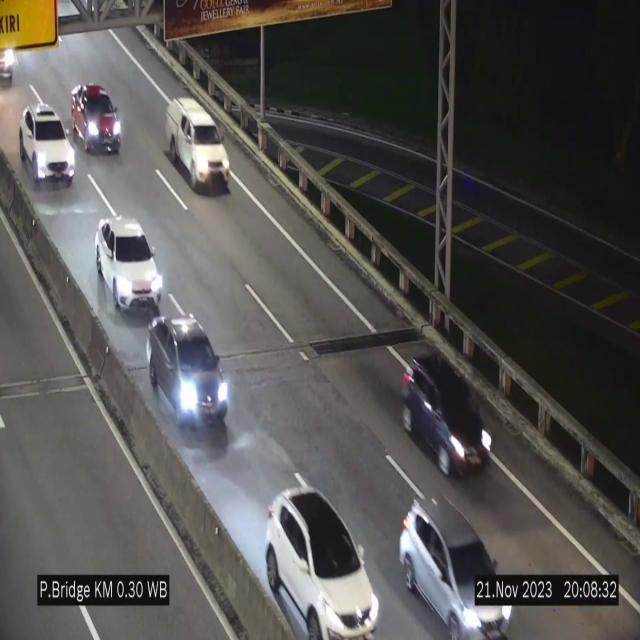Car: (394, 491, 519, 640), (266, 490, 378, 639), (402, 350, 498, 483), (147, 312, 231, 435), (95, 217, 163, 312), (166, 97, 230, 192), (20, 104, 75, 185), (70, 83, 122, 153)
